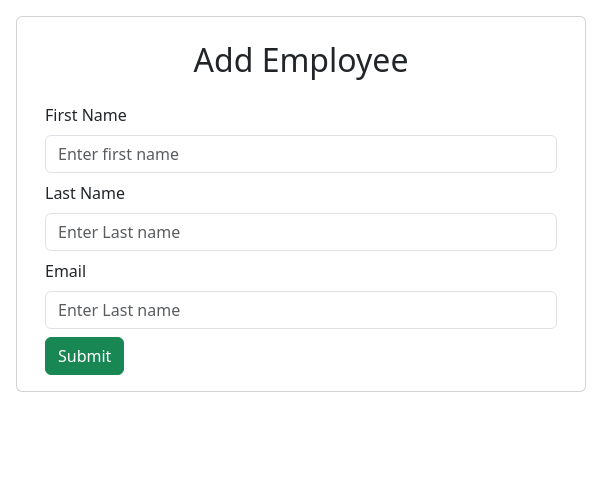
EmployeeComponent.test › should show errors on required fields on Add Employee View when input fields are empty
Click the button "Submit".
click(85, 356)  # box [45,337,124,375]
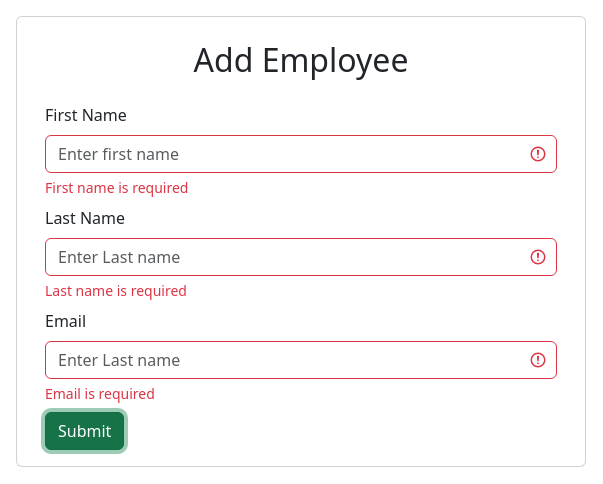
Check: the text "First name is required" is shown, box [45,178,188,197]
Check: the text "Last name is required" is shown, box [45,281,187,300]
Check: the text "Email is required" is shown, box [45,384,155,403]
